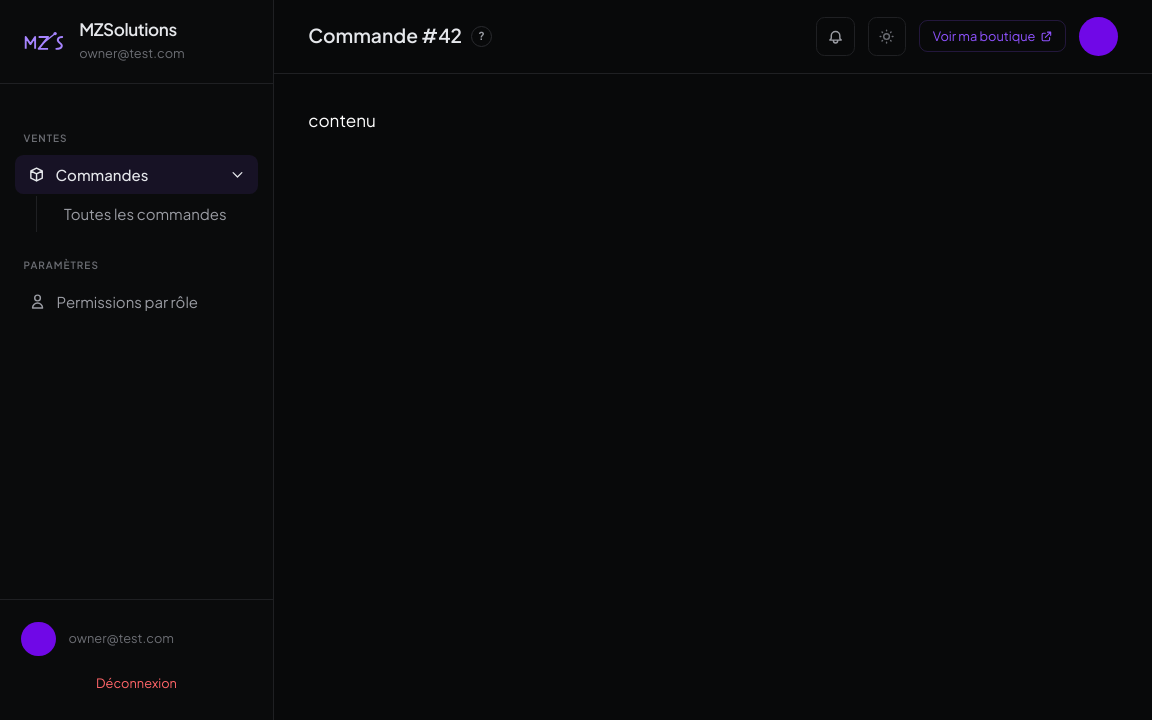
Test case: DashboardLayout — sidebar gated by permissions › résout une route à segment dynamique (ex. /dashboard/commandes/:id) via le registre
The image size is (1152, 720).
Click the button named "Informations sur cette page": (481, 36) x1=471 y1=26 x2=492 y2=47
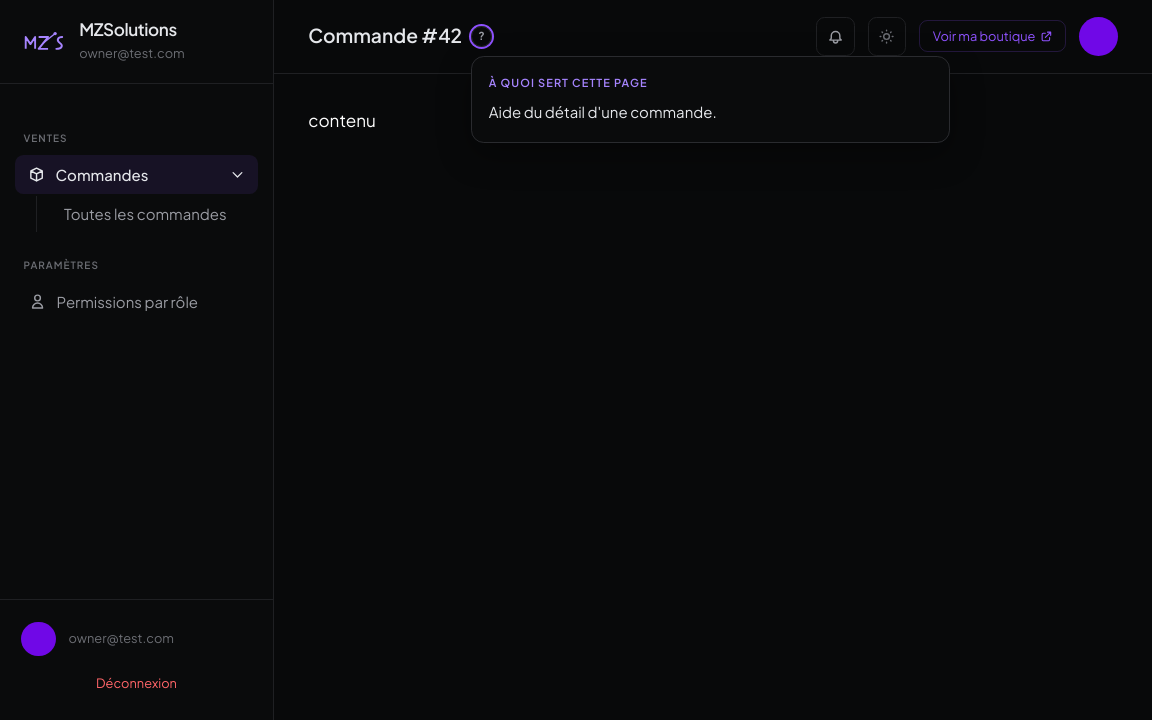
Expected: the text "Aide du détail d'une commande." is shown, x1=489 y1=102 x2=717 y2=121
